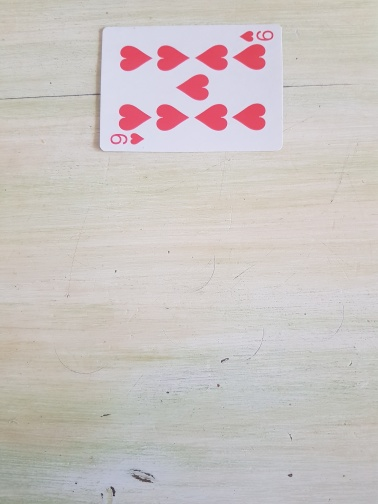nine: (98, 24, 284, 153)
